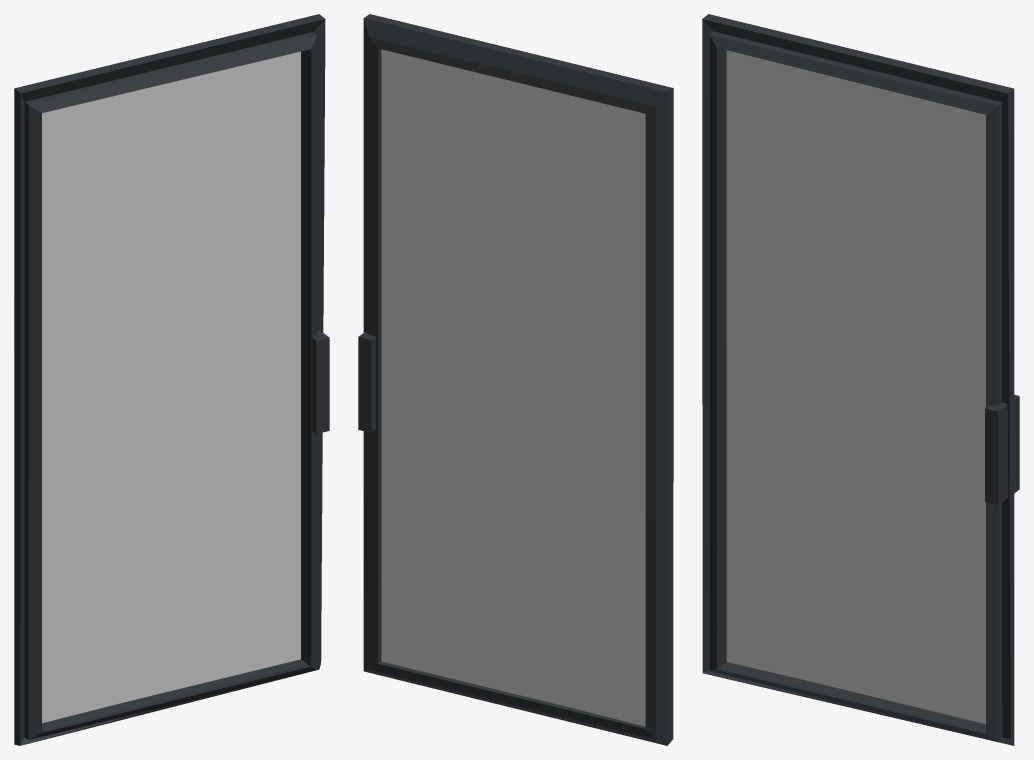
File: door3.fbx
3 renders of one model, left to right at view 1: azimuth 30°, elevation 25°; view 2: azimuth 150°, elevation 25°; view 3: azimuth 330°, elevation 25°, orthographic.
Visible parts, largest first — view 1: Cube; view 2: Cube; view 3: Cube.
Boxes of the visible parts, x1=… form: Cube: x1=14, y1=14, x2=329, y2=745; Cube: x1=358, y1=14, x2=673, y2=745; Cube: x1=702, y1=14, x2=1019, y2=745.
Size of the model in its own units: 200 by 411 by 24.32.
Materials: 2 (1 with a texture image).
